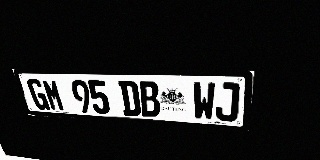5: (87, 80, 111, 114)
9: (70, 79, 94, 113)
B: (138, 81, 161, 117)
D: (118, 80, 141, 116)
G: (26, 78, 50, 110)
J: (215, 82, 240, 122)
M: (41, 79, 66, 111)
W: (193, 82, 216, 121)
